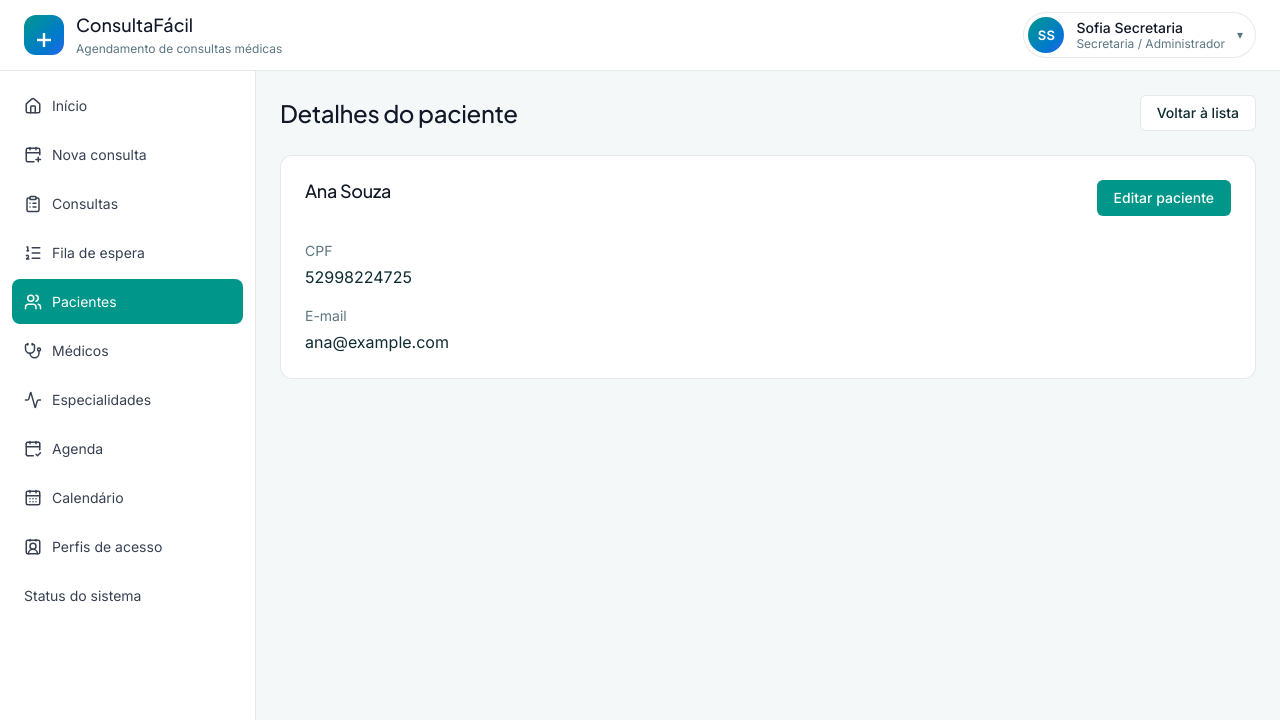
Test: cadastros padronizados › permite à secretaria editar pelo detalhe e mostra os dados salvos
Click the button "Editar paciente" at (1164, 198), box [1097,180,1231,216]
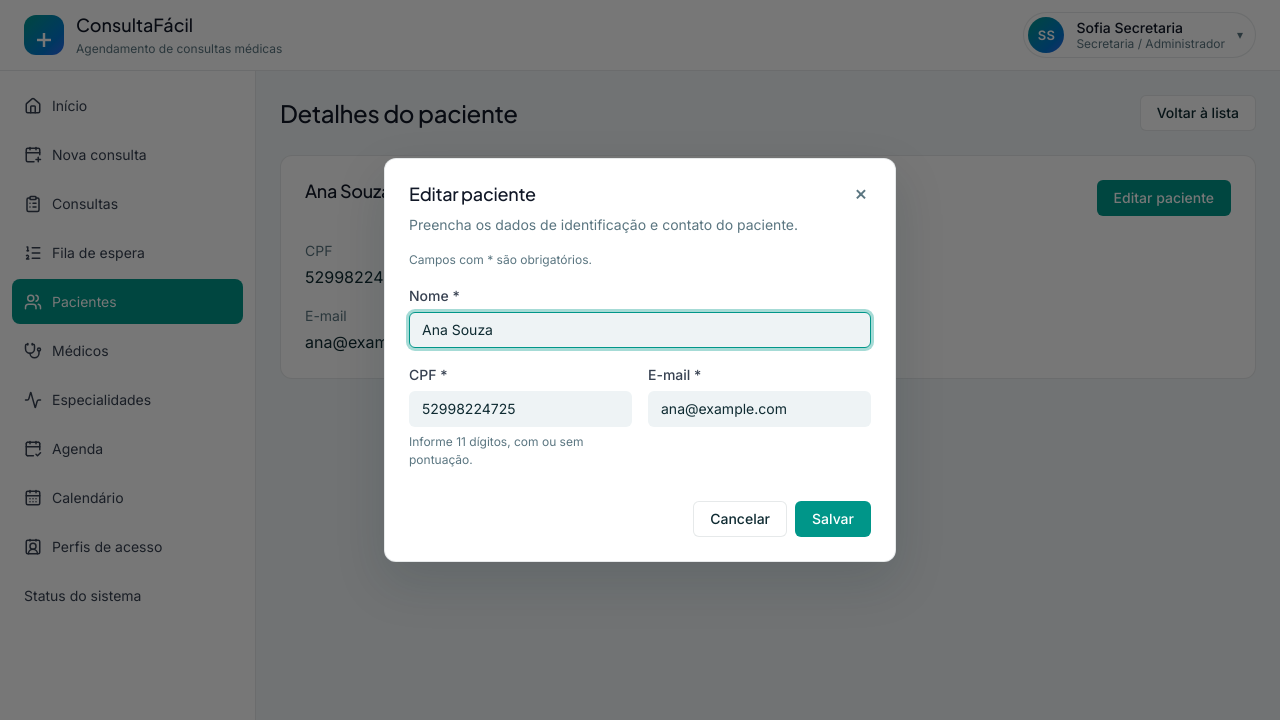
Replace the text in the field labelled "Nome *" with "Ana Lima" at (640, 330), box [409,312,871,348]
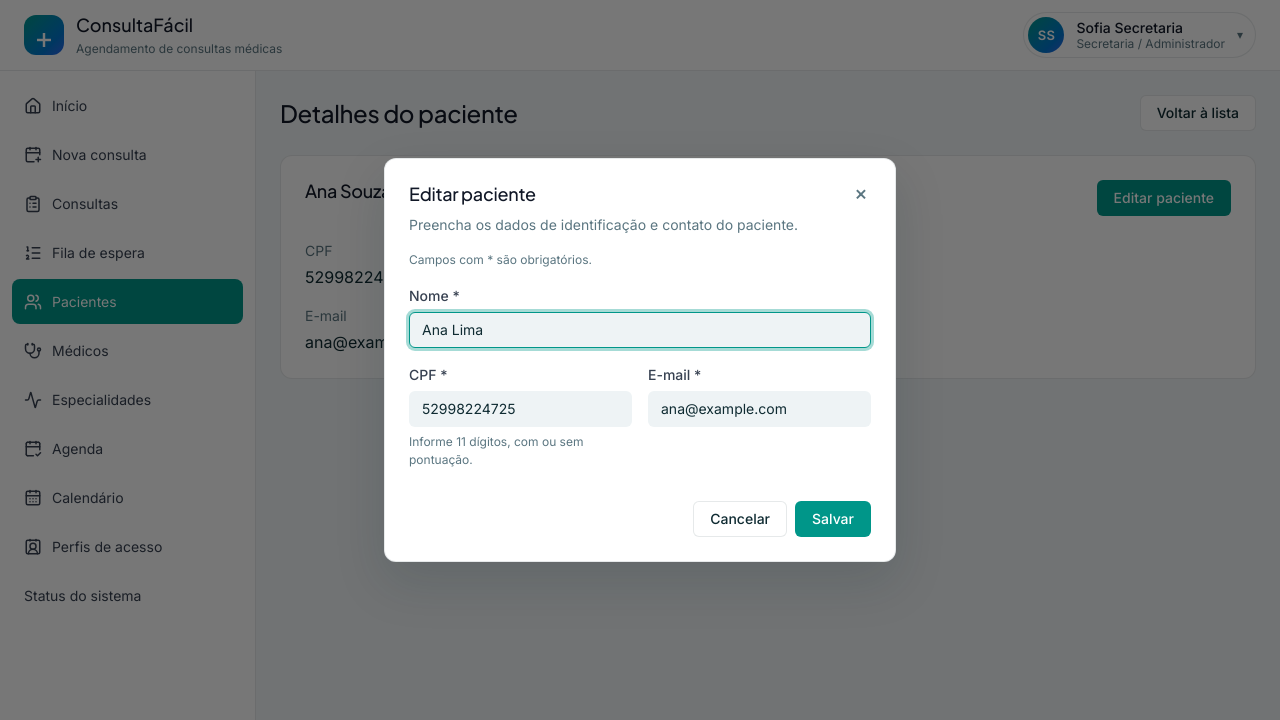
Click the button "Salvar" at (833, 519), box [795,501,871,537]
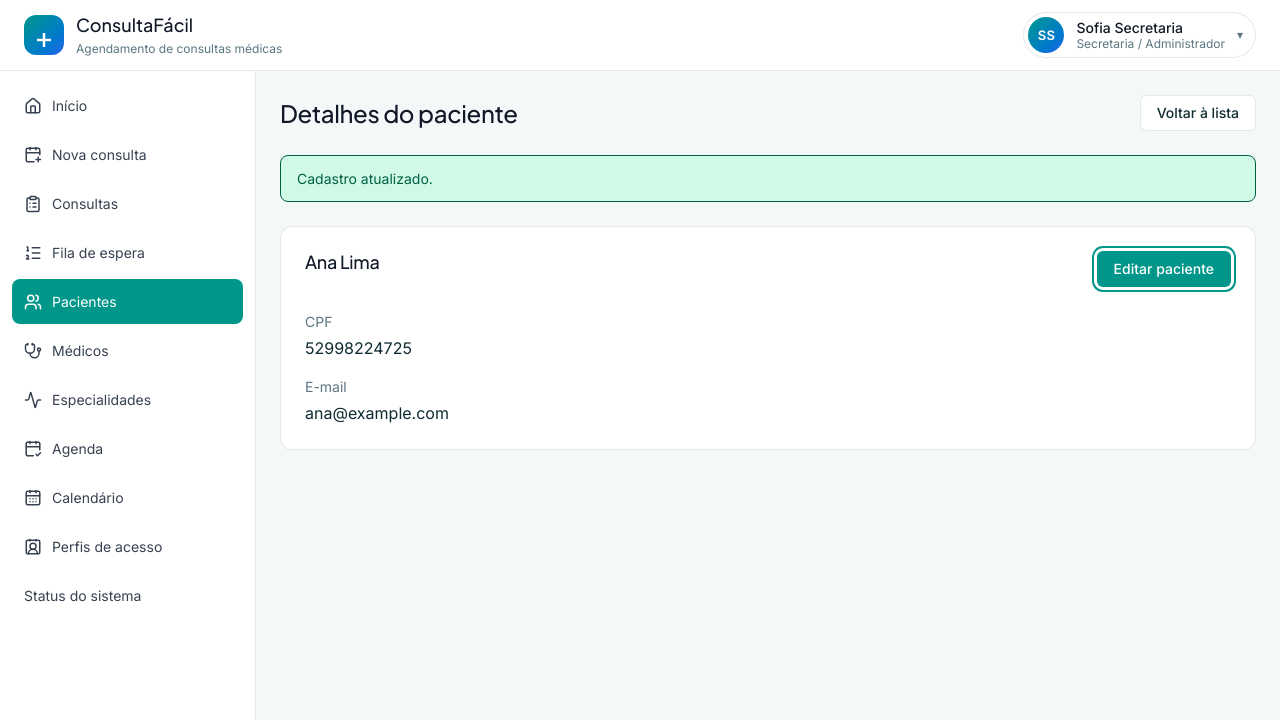
Expected: the heading "Ana Lima" is shown, [305,251,380,274]
